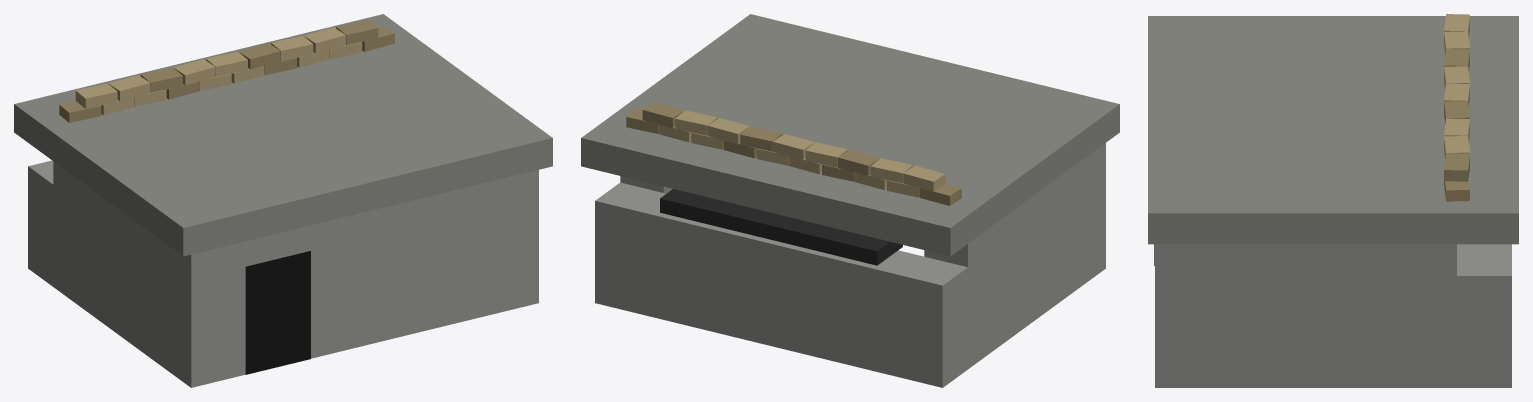
File: Bunker.fbx
3 renders of one model, left to right at view 1: azimuth 30°, elevation 25°; view 2: azimuth 150°, elevation 25°; view 3: azimuth 270°, elevation 25°, orthographic. The views are drawn at different scales.
Visible parts, largest first — view 1: Roof, WallBack, WallSideL, Entrance, WallFront, RoofBags_1_0, RoofBags_1_6, RoofBags_1_1, RoofBags_1_2, RoofBags_1_4, RoofBags_1_5, RoofBags_1_8 (+4 smaller); view 2: Roof, WallFront, WallSideL, Slit, WallBack, RoofBags_1_0, RoofBags_1_1, RoofBags_1_6, RoofBags_1_8, RoofBags_1_7, RoofBags_1_5, RoofBags_1_3 (+4 smaller); view 3: Roof, WallSideR, WallBack, WallFront, RoofBags_1_8, RoofBags_0_9, RoofBags_1_1, RoofBags_1_4, RoofBags_1_6, RoofBags_1_3, RoofBags_1_5, RoofBags_1_0 (+2 smaller).
Part boxes in pixels (<box>): Roof: <box>14,14,552,256</box>; WallBack: <box>166,170,538,387</box>; WallSideL: <box>53,161,165,369</box>; Entrance: <box>245,251,310,374</box>; WallFront: <box>28,160,53,286</box>; RoofBags_1_0: <box>75,83,117,108</box>; RoofBags_1_6: <box>271,36,313,60</box>; RoofBags_1_1: <box>108,75,150,101</box>; RoofBags_1_2: <box>140,67,182,92</box>; RoofBags_1_4: <box>206,51,247,76</box>; RoofBags_1_5: <box>238,43,280,69</box>; RoofBags_1_8: <box>336,20,378,45</box>; Roof: <box>581,14,1119,256</box>; WallFront: <box>595,182,967,387</box>; WallSideL: <box>924,161,1080,369</box>; Slit: <box>660,189,902,265</box>; WallBack: <box>1080,143,1105,286</box>; RoofBags_1_0: <box>903,165,945,191</box>; RoofBags_1_1: <box>870,158,912,183</box>; RoofBags_1_6: <box>707,118,749,143</box>; RoofBags_1_8: <box>642,102,684,128</box>; RoofBags_1_7: <box>675,110,717,135</box>; RoofBags_1_5: <box>740,126,782,151</box>; RoofBags_1_3: <box>805,142,847,167</box>; Roof: <box>1148,16,1518,244</box>; WallSideR: <box>1210,244,1456,387</box>; WallBack: <box>1155,244,1209,387</box>; WallFront: <box>1457,244,1511,387</box>; RoofBags_1_8: <box>1444,153,1469,181</box>; RoofBags_0_9: <box>1444,178,1469,201</box>; RoofBags_1_1: <box>1444,31,1469,53</box>; RoofBags_1_4: <box>1444,83,1469,105</box>; RoofBags_1_6: <box>1444,118,1469,140</box>; RoofBags_1_3: <box>1444,66,1469,88</box>; RoofBags_1_5: <box>1444,101,1469,123</box>; RoofBags_1_0: <box>1444,14,1469,35</box>.
Bounding box in the file's own units: 680 × 540 × 326.
